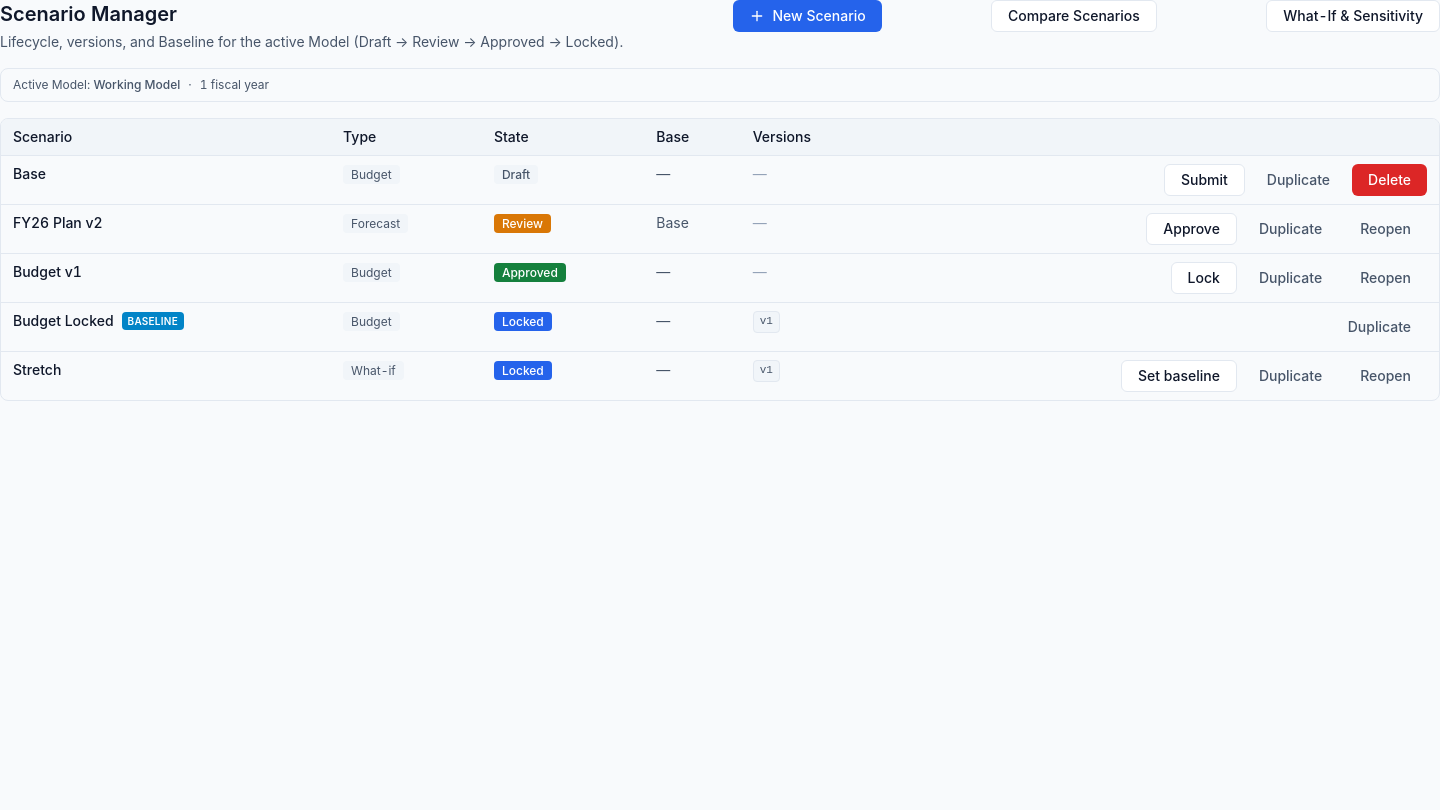
Test: S-050 Scenario Manager (F-022) › locks an Approved Scenario through the D-004 type-to-confirm dialog and writes a Version
Expected: the text "Budget v1" is shown, 13,262 -> 82,282
Step 1. Click the button "Lock" → {"x": 1204, "y": 278}, box 1171,262 -> 1237,294
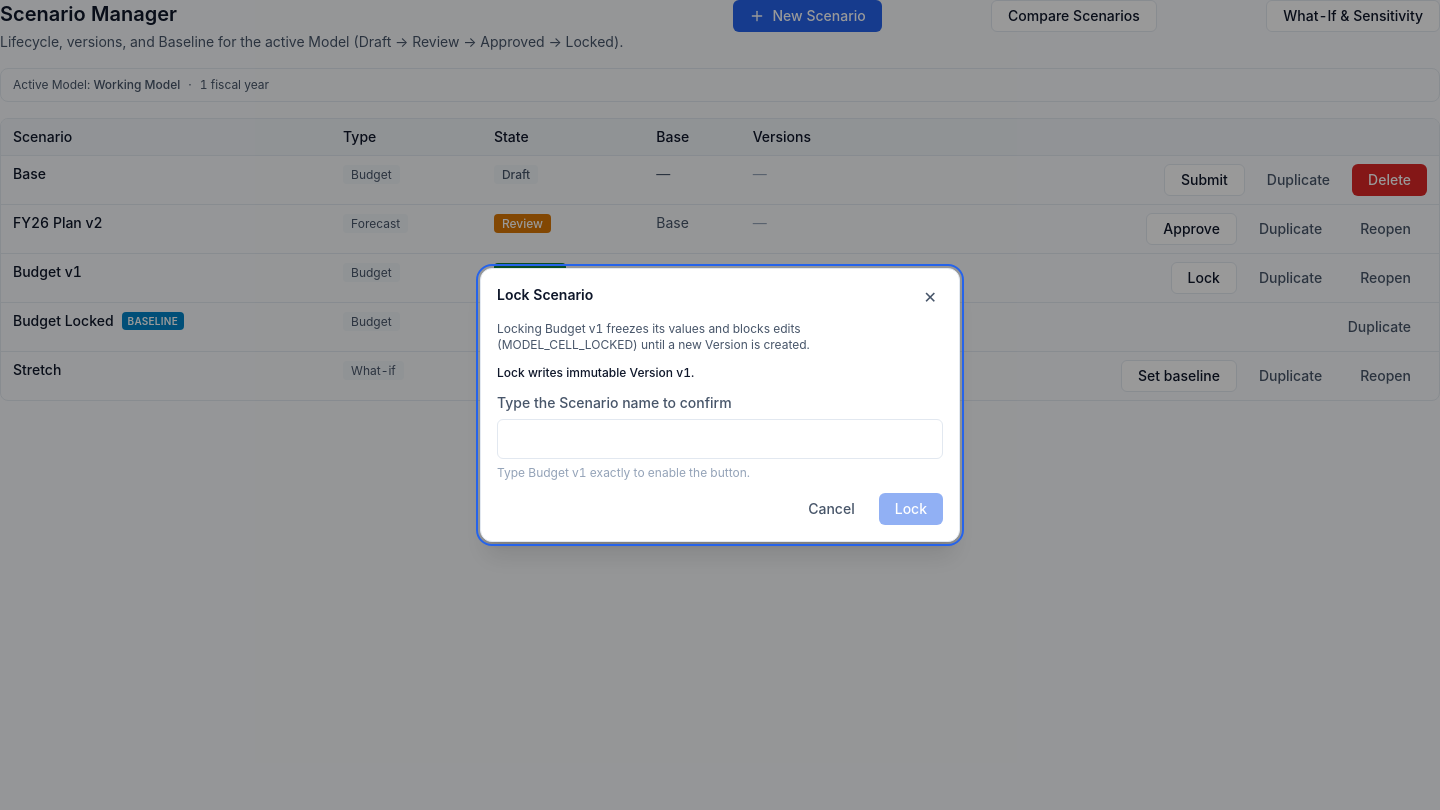
Now the button "Lock" is disabled, box 879,493 -> 943,525
Step 2. Type "Budget v1" into the field labelled "Type the Scenario name to confirm" → {"x": 720, "y": 439}, box 497,419 -> 943,459
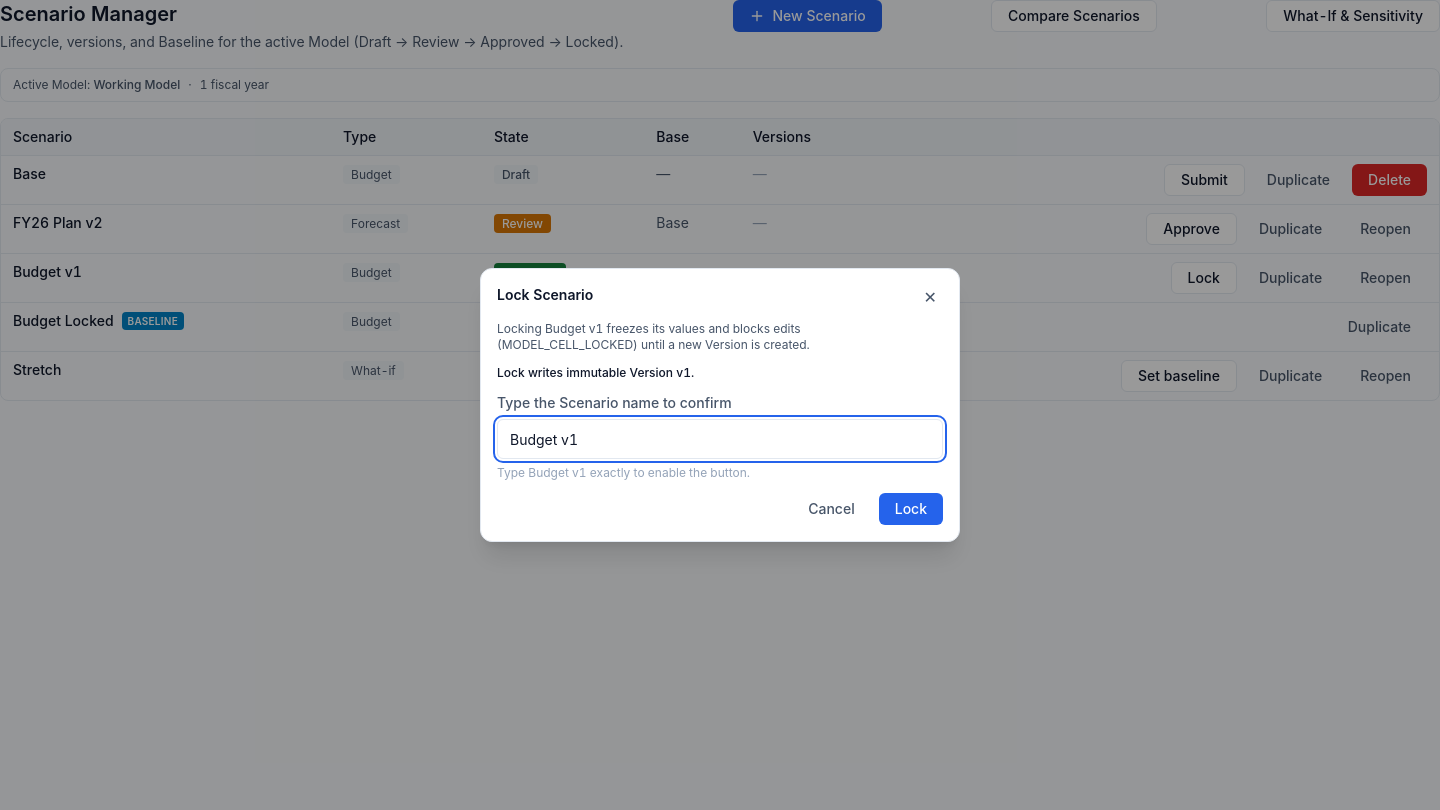
Step 3. Click the button "Lock" → {"x": 911, "y": 509}, box 879,493 -> 943,525
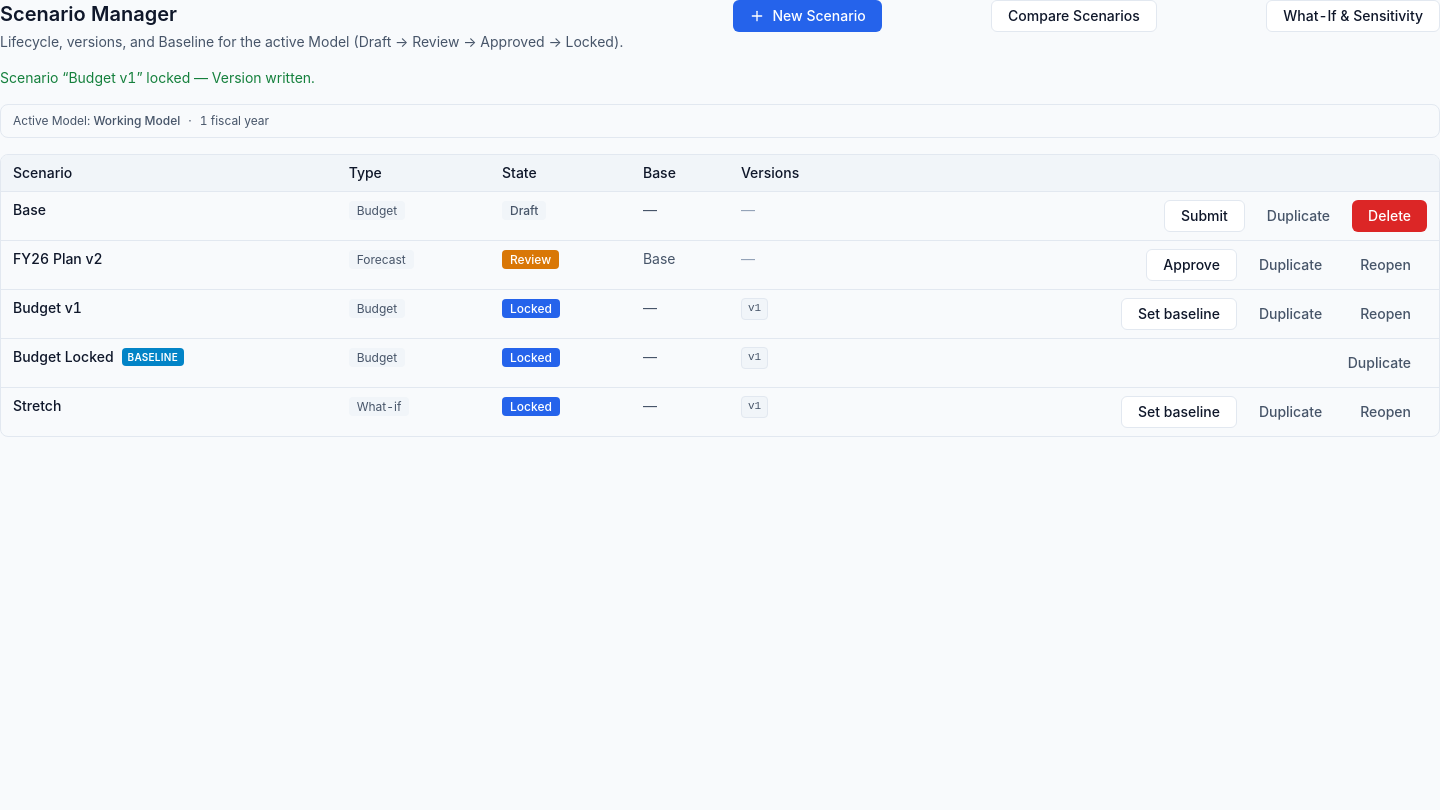
Expected: the text "Budget v1" is shown, 13,298 -> 82,318
Now the text "Scenario “Budget v1” locked — Version written." is shown, box 0,69 -> 315,86
Now the dialog is gone
